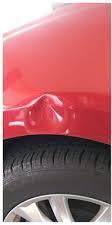dent: (7, 88, 101, 138)
